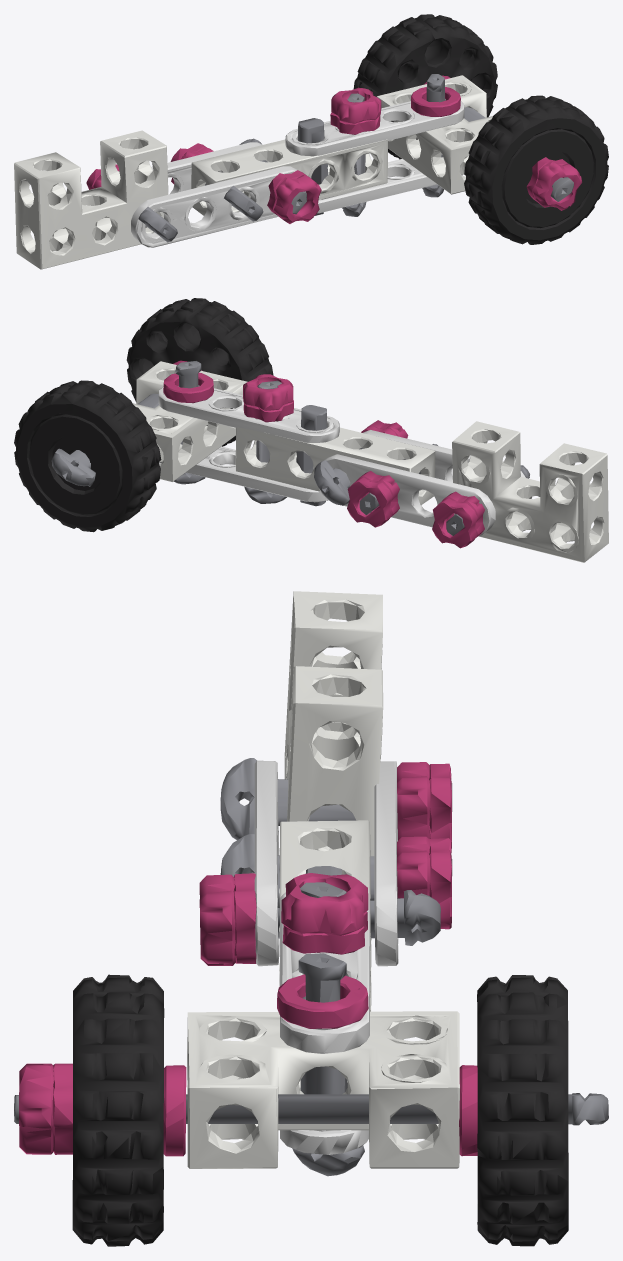
The model's file is UMilestone8.fbx.
The picture shows the model from 3 angles, top to bottom: view 1: azimuth 30°, elevation 25°; view 2: azimuth 150°, elevation 25°; view 3: azimuth 270°, elevation 25°; orthographic projection. The views are drawn at different scales.
Visible parts, largest first — view 1: Nut PH CL BU01.00x5mm - SPN-NUT-0018 (stemfie.org).004; view 2: Nut PH CL BU01.00x5mm - SPN-NUT-0018 (stemfie.org).004; view 3: Nut PH CL BU01.00x5mm - SPN-NUT-0018 (stemfie.org).004.
Part boxes in pixels (x1=…): Nut PH CL BU01.00x5mm - SPN-NUT-0018 (stemfie.org).004: x1=14, y1=14, x2=608, y2=269; Nut PH CL BU01.00x5mm - SPN-NUT-0018 (stemfie.org).004: x1=14, y1=298, x2=608, y2=562; Nut PH CL BU01.00x5mm - SPN-NUT-0018 (stemfie.org).004: x1=14, y1=591, x2=608, y2=1246.
Size of the model in its own units: 14914 by 3739 by 8197.
